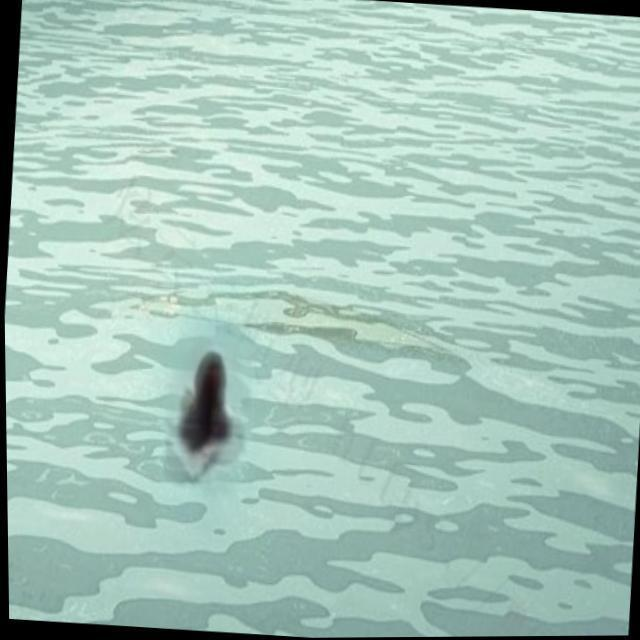swimming: (157, 327, 253, 481)
